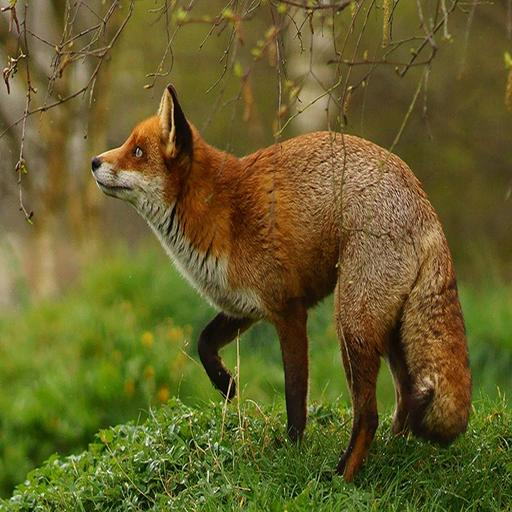Fox: (89, 85, 477, 486)
